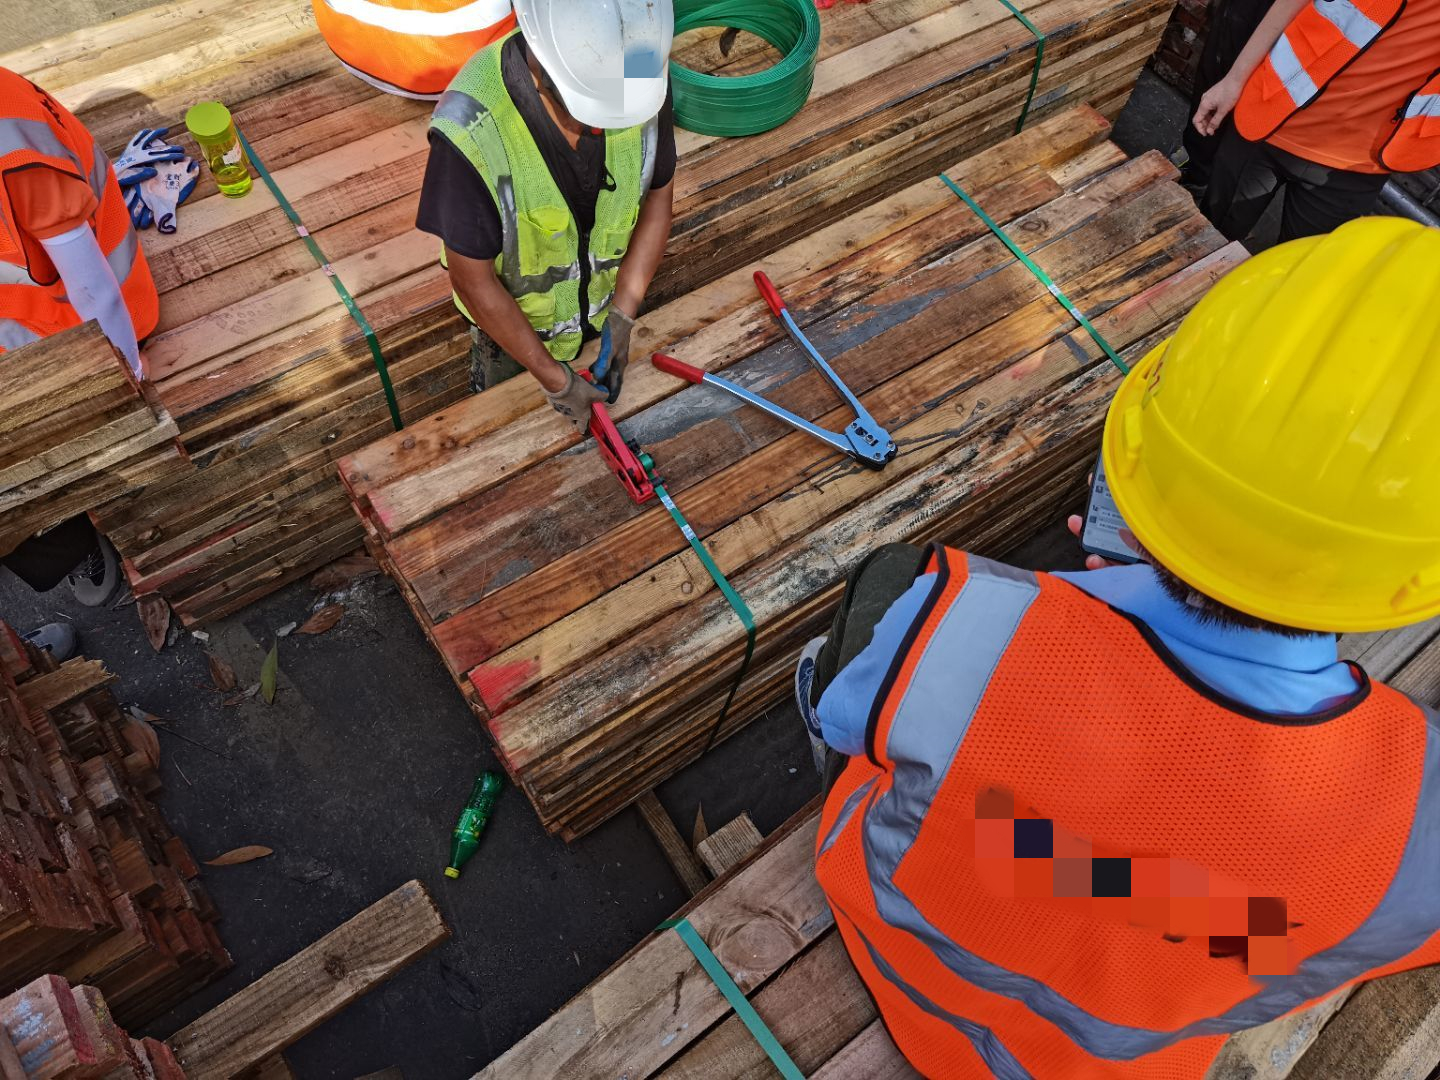helmet: (1087, 216, 1440, 652), (534, 1, 686, 133)
person: (798, 197, 1440, 1080), (408, 1, 721, 425), (1, 57, 224, 388), (1148, 1, 1433, 227), (305, 1, 516, 113)
vest: (821, 565, 1435, 1080), (433, 55, 635, 364), (1, 70, 152, 349), (1214, 4, 1440, 146), (324, 1, 506, 87)
